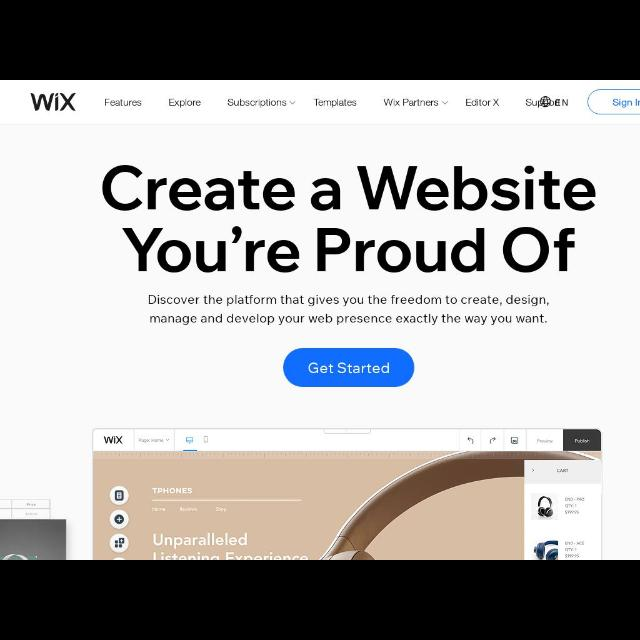icon: (288, 99, 298, 107), (440, 98, 450, 105), (542, 95, 548, 106)
image: (93, 428, 602, 560), (1, 495, 67, 559), (28, 91, 76, 112)
spinner: (438, 99, 452, 107), (287, 97, 297, 107)
text: (99, 163, 596, 275), (148, 294, 550, 324), (307, 362, 389, 374), (227, 99, 287, 108), (313, 99, 357, 108), (104, 98, 142, 108), (167, 97, 201, 107), (382, 100, 438, 106), (466, 100, 500, 108), (525, 100, 567, 106), (612, 98, 640, 106)
textbutton: (283, 349, 415, 387), (588, 90, 640, 114)
